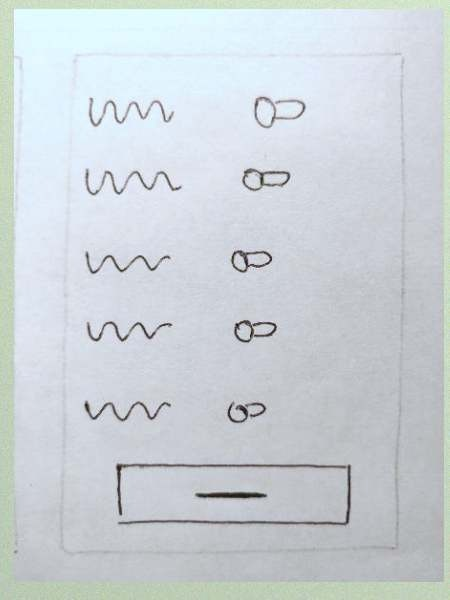button: (103, 456, 360, 534)
switch: (243, 84, 313, 134), (223, 305, 290, 357), (233, 159, 300, 203), (212, 393, 280, 428), (226, 242, 282, 282)
text: (73, 387, 177, 435), (83, 86, 175, 140), (75, 159, 182, 204), (78, 240, 174, 285), (74, 311, 176, 349)
